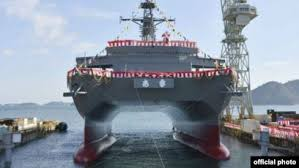tau_muctieu: (60, 11, 247, 163)
